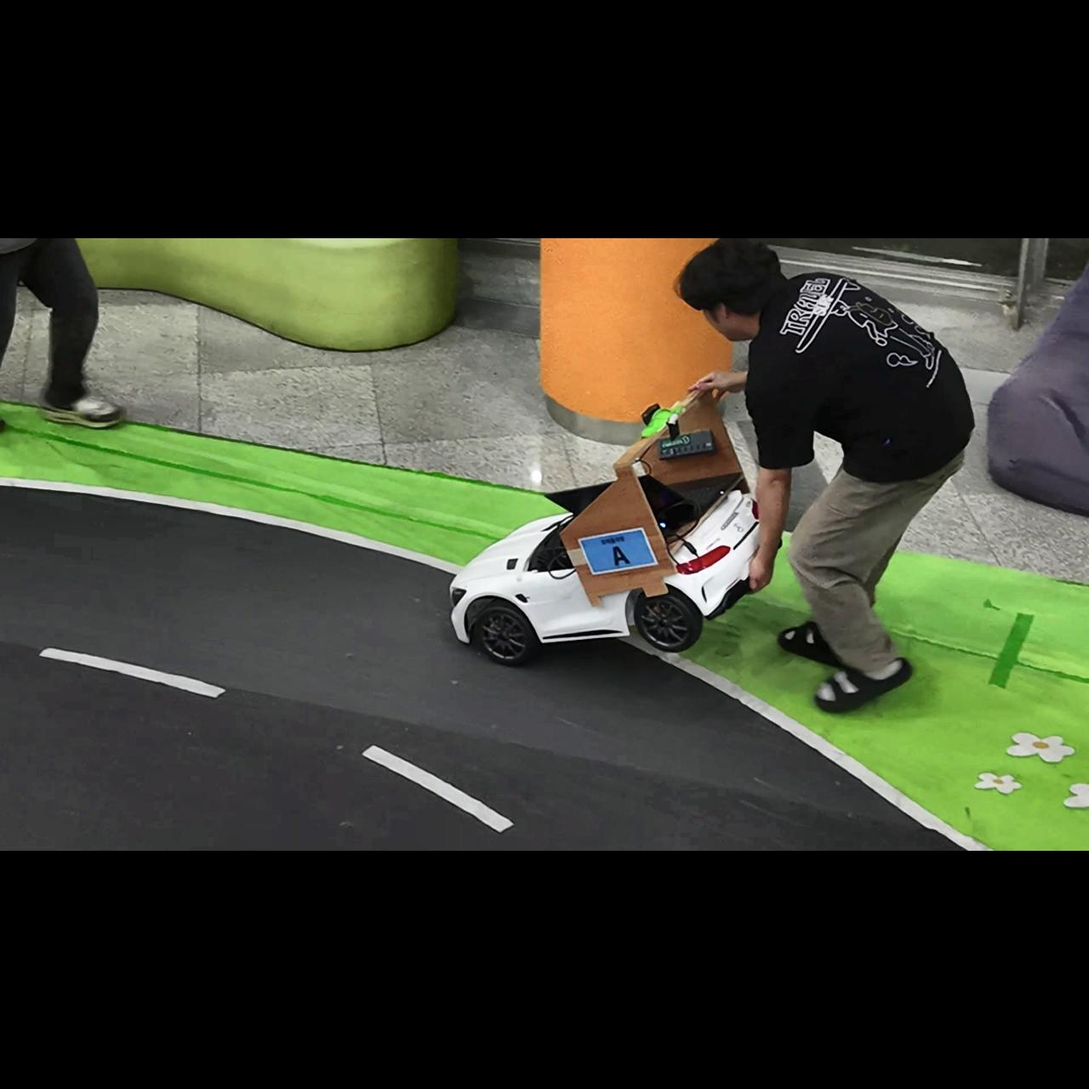broken_line: (361, 745, 515, 833), (38, 648, 226, 698)
